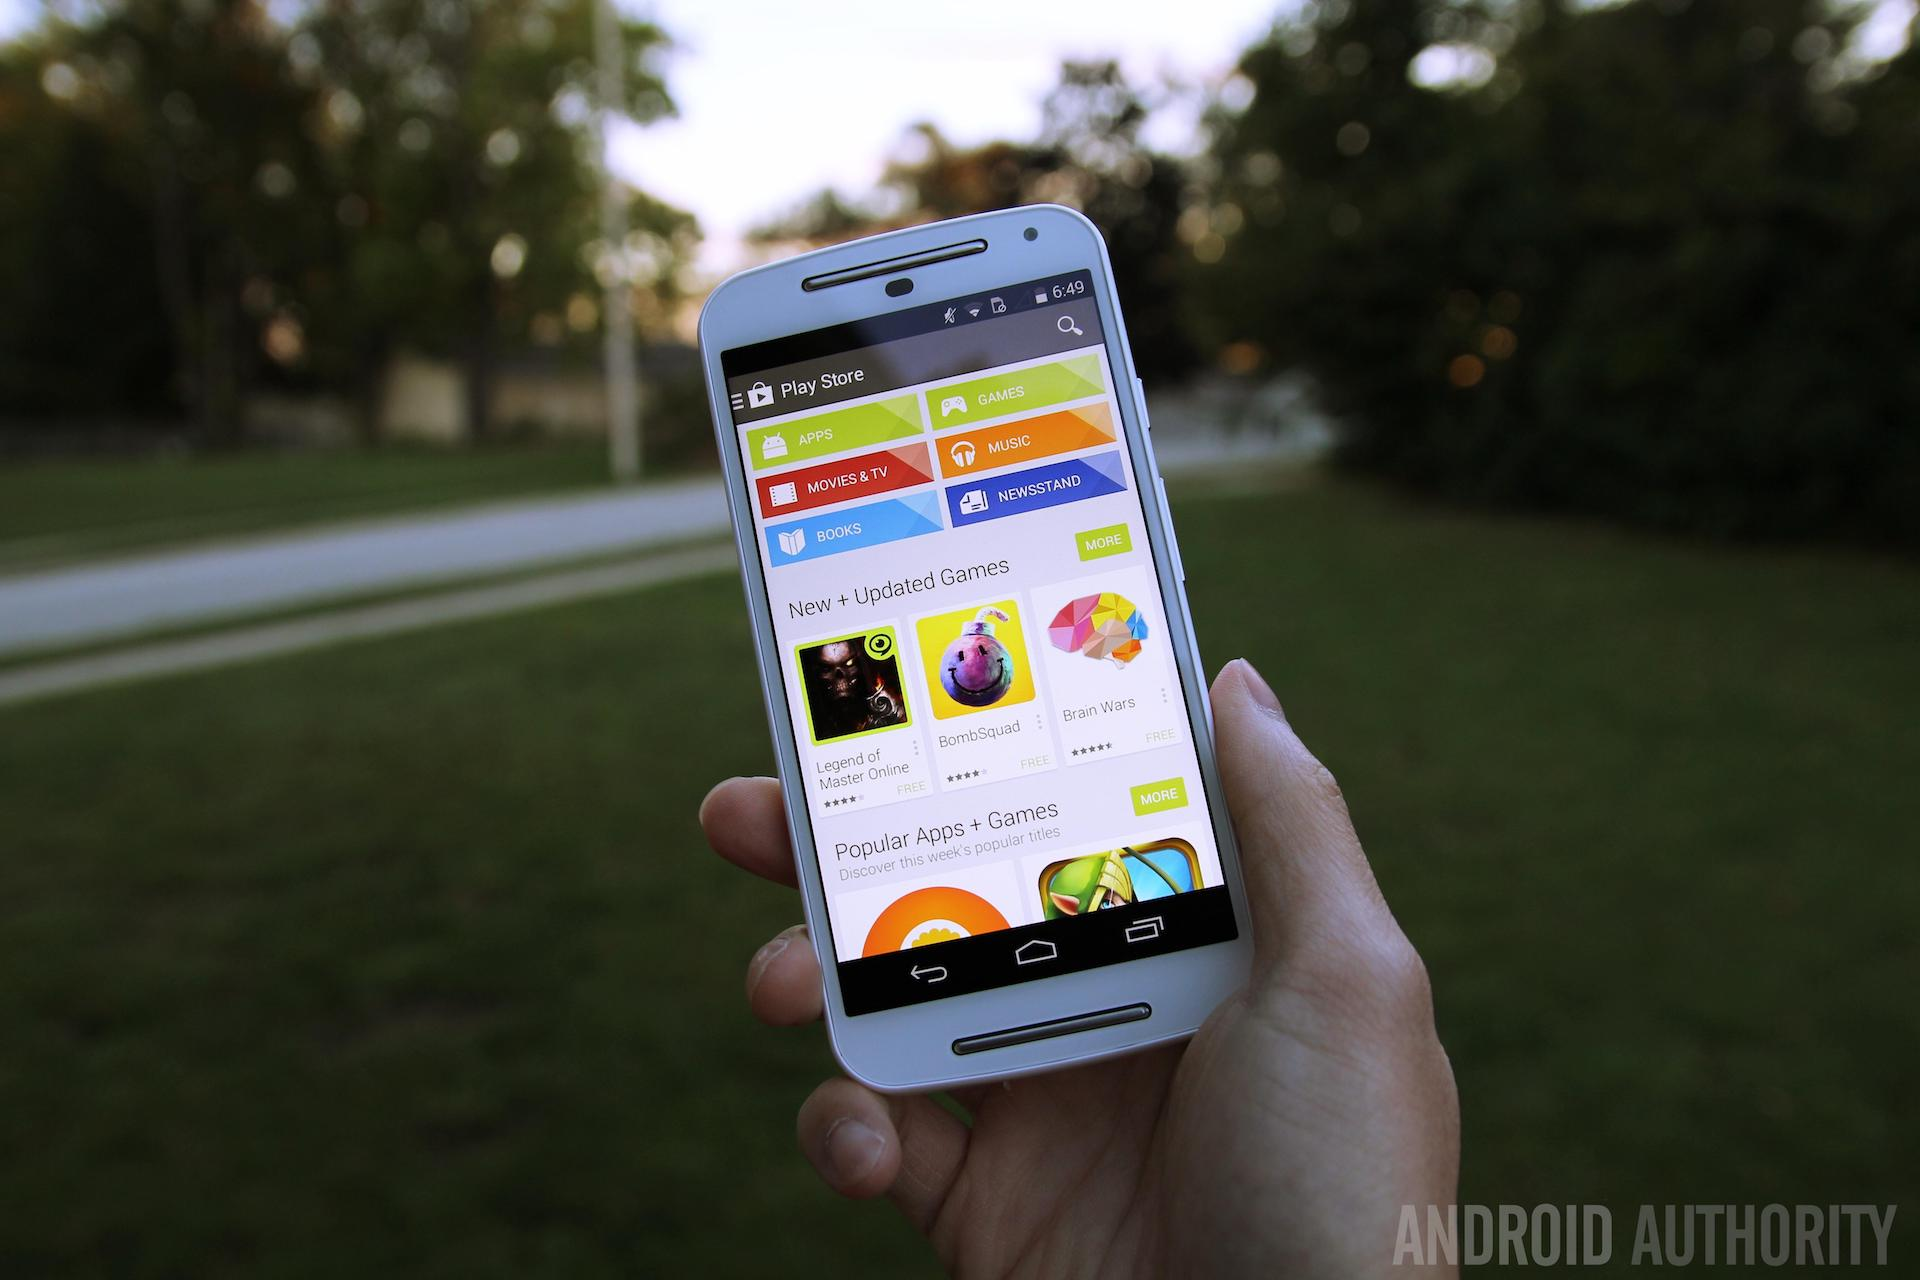smartphone: (694, 201, 1259, 1101)
